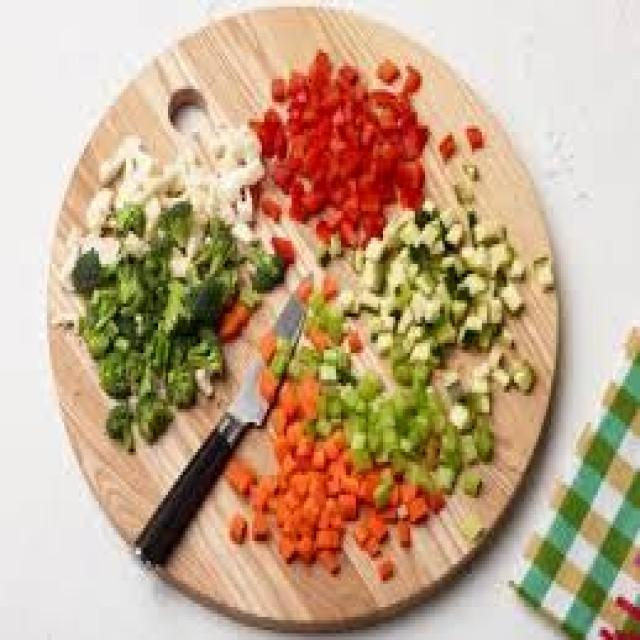biodegradable: (171, 122, 218, 185), (106, 258, 158, 314), (173, 271, 232, 317), (190, 218, 240, 271), (79, 287, 119, 353), (149, 195, 191, 251), (163, 337, 195, 403), (309, 122, 358, 165), (97, 350, 144, 393), (186, 330, 218, 392), (139, 241, 176, 294), (156, 281, 198, 327), (131, 386, 170, 435), (220, 152, 272, 188), (284, 92, 329, 132), (237, 244, 277, 287), (250, 102, 282, 155), (346, 96, 378, 145), (114, 152, 156, 188), (79, 228, 121, 264), (383, 247, 420, 287), (104, 402, 133, 452), (99, 135, 138, 172), (82, 182, 114, 225), (366, 310, 398, 353), (381, 204, 415, 241), (396, 113, 423, 159), (393, 159, 420, 205), (64, 251, 104, 280), (358, 142, 393, 175), (217, 297, 252, 330), (465, 208, 504, 237), (265, 162, 302, 191), (284, 492, 316, 525), (329, 82, 368, 109), (222, 459, 257, 488), (208, 132, 247, 158), (294, 376, 319, 416), (425, 419, 455, 452), (158, 152, 185, 188), (373, 92, 405, 122), (334, 218, 363, 251), (400, 452, 430, 482), (371, 56, 398, 89), (396, 66, 423, 99), (218, 185, 245, 218), (482, 234, 509, 267), (529, 247, 553, 284), (287, 346, 316, 376), (336, 247, 368, 274), (373, 284, 405, 310), (391, 383, 423, 409), (312, 162, 339, 191), (418, 218, 445, 247), (356, 178, 390, 201), (284, 129, 314, 155), (329, 86, 361, 109), (445, 402, 472, 429), (408, 333, 435, 360), (440, 218, 462, 251), (356, 366, 378, 399), (255, 370, 277, 403), (358, 205, 383, 234), (356, 261, 383, 287), (411, 264, 438, 290), (309, 50, 329, 83), (435, 136, 455, 169), (139, 191, 161, 221), (420, 291, 440, 324), (430, 274, 450, 307), (396, 409, 416, 442), (369, 389, 391, 419), (307, 287, 327, 320), (312, 528, 344, 548), (433, 317, 455, 346), (418, 383, 440, 412), (334, 495, 358, 521), (312, 211, 339, 234), (314, 353, 341, 376), (336, 165, 366, 185), (359, 237, 381, 264), (403, 323, 425, 350), (314, 544, 336, 571), (334, 175, 354, 204), (386, 330, 406, 359), (284, 66, 309, 89), (512, 363, 534, 389), (393, 297, 415, 323), (225, 515, 247, 541), (287, 188, 311, 211), (460, 475, 484, 498), (351, 277, 375, 300), (413, 406, 437, 429), (109, 188, 141, 205), (331, 59, 351, 86), (242, 125, 260, 155), (50, 307, 77, 327), (440, 369, 460, 396), (391, 356, 411, 383), (319, 310, 339, 337), (474, 426, 492, 455), (284, 469, 302, 498), (316, 495, 334, 524), (272, 231, 292, 257), (460, 122, 477, 152), (450, 178, 472, 201), (490, 366, 512, 389), (334, 287, 356, 310), (406, 291, 428, 314), (243, 485, 265, 508), (227, 221, 252, 241), (363, 426, 388, 446), (279, 380, 294, 413), (306, 465, 324, 492), (296, 531, 314, 558), (59, 235, 79, 258), (502, 251, 522, 274), (408, 357, 428, 380), (265, 409, 285, 432), (250, 512, 270, 535), (358, 531, 378, 554), (351, 522, 371, 545), (196, 188, 218, 208), (430, 465, 452, 485), (366, 475, 388, 495), (327, 455, 349, 475), (403, 492, 425, 512), (457, 426, 472, 455), (331, 347, 344, 380), (484, 340, 502, 363), (269, 343, 287, 366), (319, 270, 334, 297), (433, 205, 453, 225), (403, 224, 423, 244), (438, 446, 458, 466), (393, 475, 413, 495), (274, 538, 294, 558), (418, 198, 435, 221), (252, 469, 269, 492), (385, 442, 403, 462), (338, 383, 356, 403), (269, 432, 287, 452), (416, 485, 438, 501), (356, 469, 368, 498), (329, 426, 344, 449), (368, 515, 383, 538), (393, 522, 408, 545), (378, 558, 393, 581), (467, 389, 487, 406), (257, 198, 277, 214), (497, 320, 512, 340), (329, 396, 344, 416), (314, 419, 329, 439), (262, 492, 277, 512), (324, 472, 339, 492), (277, 455, 294, 472), (371, 505, 393, 518), (257, 333, 269, 356), (341, 198, 358, 214), (287, 419, 304, 435), (353, 198, 373, 211), (346, 406, 366, 419), (460, 158, 475, 175), (445, 300, 460, 317), (277, 518, 292, 534), (316, 380, 334, 393), (329, 113, 346, 126), (425, 238, 442, 251), (467, 370, 484, 383), (274, 468, 287, 485), (309, 195, 331, 205), (267, 76, 282, 89), (467, 357, 482, 370), (309, 449, 321, 465), (348, 429, 361, 442), (341, 475, 353, 488), (369, 452, 391, 459), (296, 277, 304, 294), (297, 442, 307, 455), (396, 502, 406, 515), (245, 178, 257, 188), (353, 390, 361, 403)
metal: (225, 274, 309, 429)
